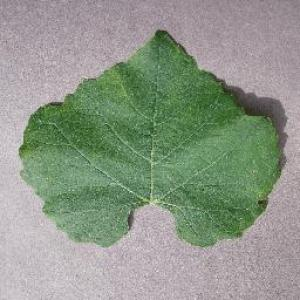Folha: (18, 28, 284, 249)
